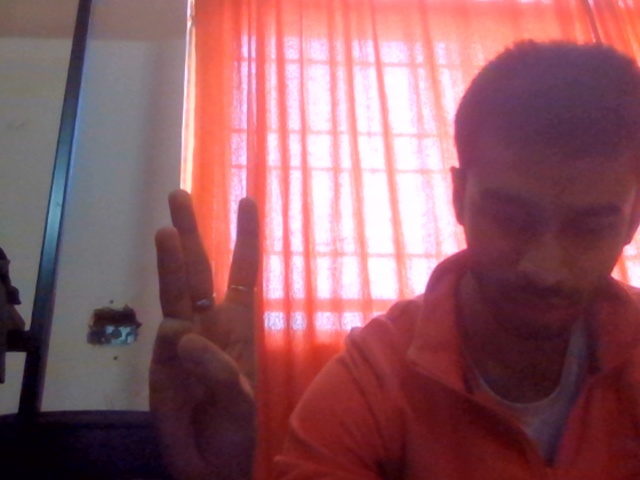W: (137, 153, 321, 480)
